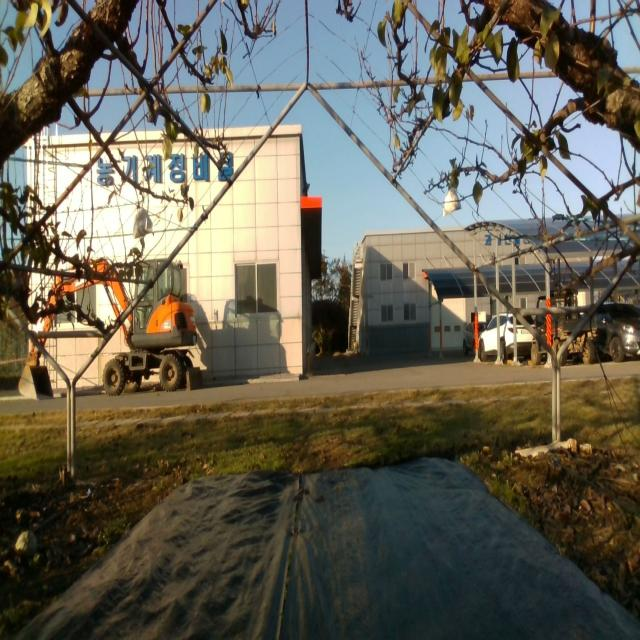pearbags: (132, 204, 154, 237), (443, 187, 461, 216)
